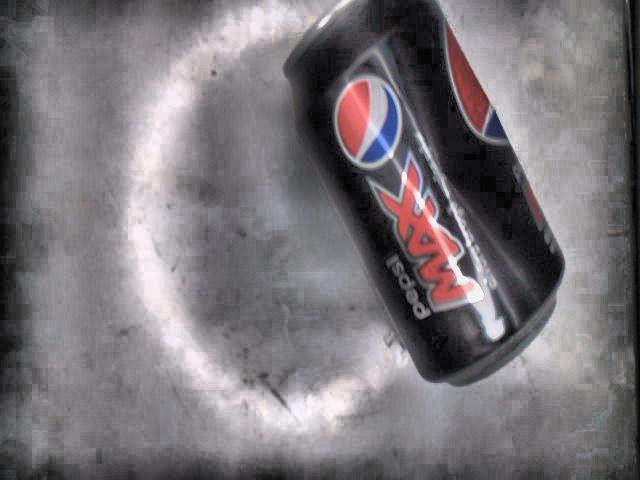Bottles: (281, 0, 569, 388)
